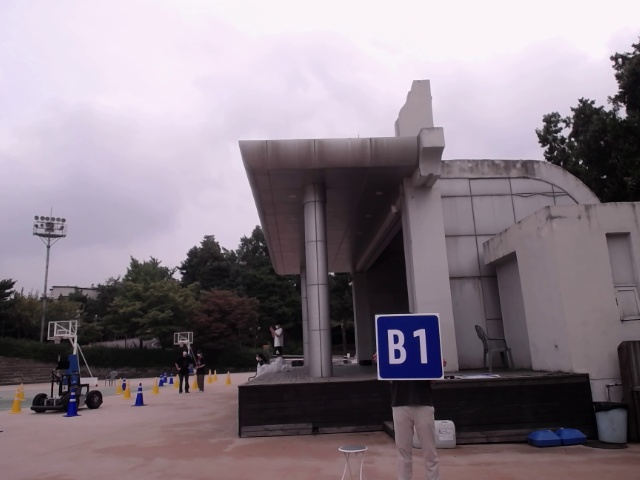delivery_b1: (375, 313, 444, 380)
